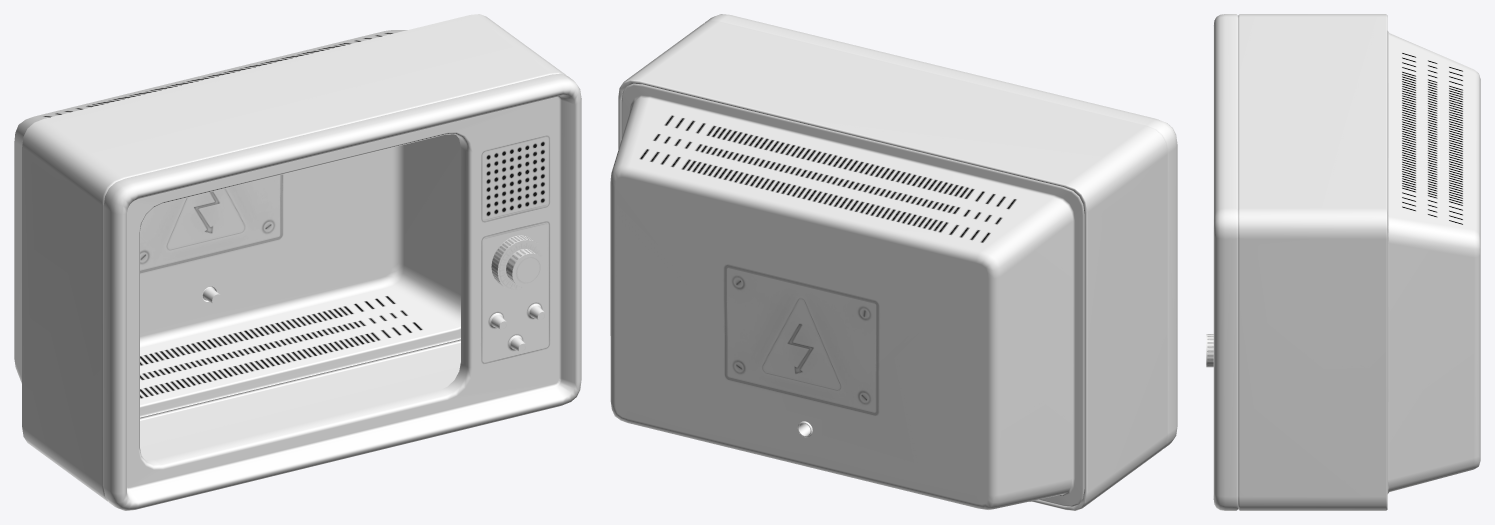
3 renders of one model, left to right at view 1: azimuth 30°, elevation 25°; view 2: azimuth 150°, elevation 25°; view 3: azimuth 270°, elevation 25°, orthographic. The views are drawn at different scales.
Parts seen in each view (by area): view 1: TV; view 2: TV; view 3: TV.
Boxes of the visible parts, <box> form: TV: <box>14,14,581,510</box>; TV: <box>610,14,1177,510</box>; TV: <box>1206,14,1480,510</box>.
Bounding box in the file's own units: 1.32 × 0.906 × 0.7232.
Materials: 1 (1 with a texture image).
